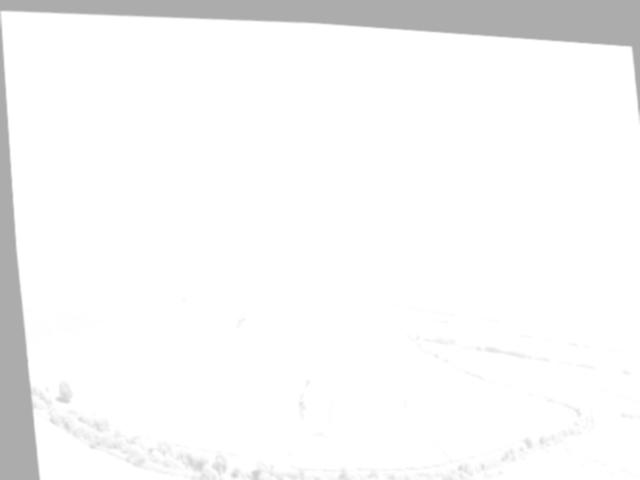hedef: (194, 341, 414, 456)
